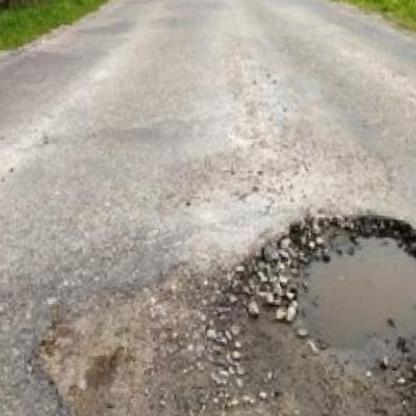pothole: (231, 204, 416, 416)
